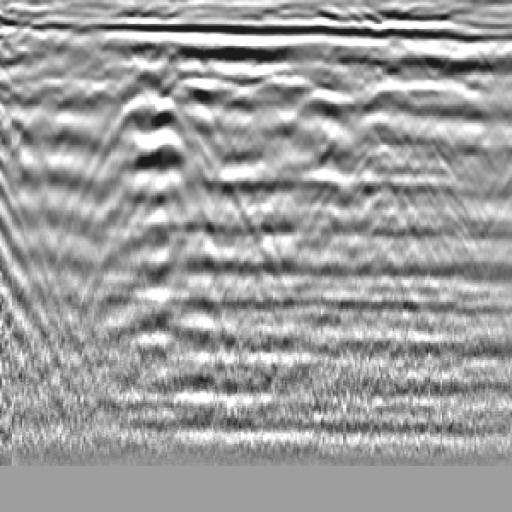metalic: (73, 66, 230, 176)
